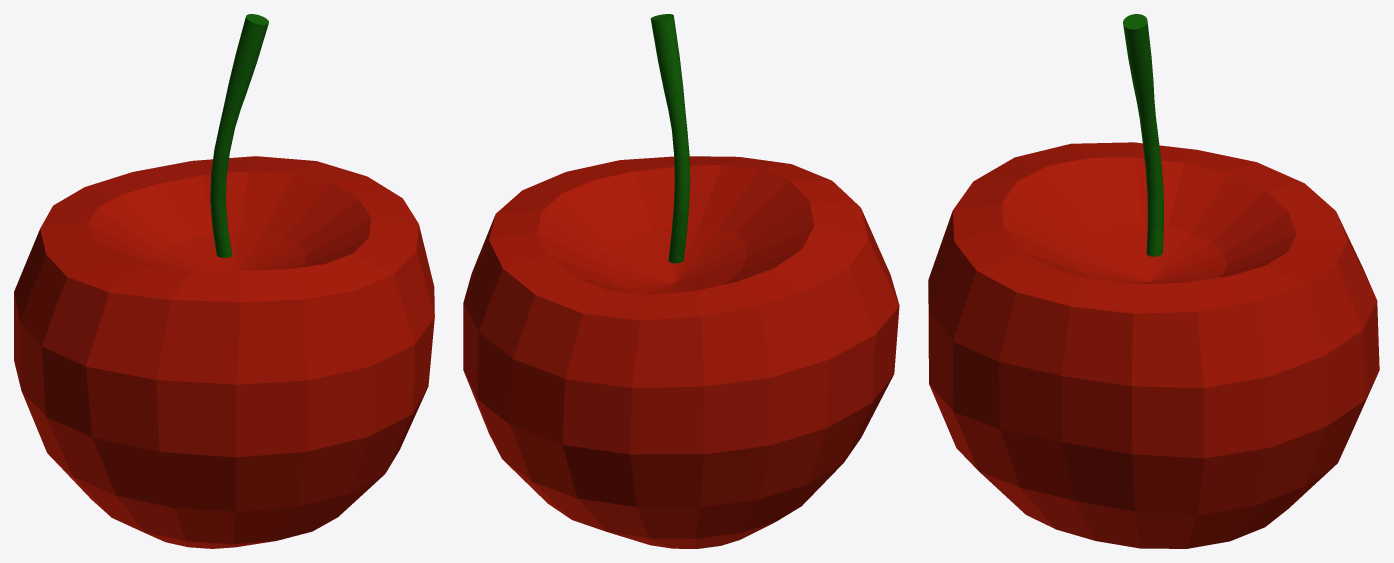
File: Manzana.fbx
3 views of the same model, side by side, from view 1: azimuth 30°, elevation 25°; view 2: azimuth 150°, elevation 25°; view 3: azimuth 270°, elevation 25° (orthographic). The views are drawn at different scales.
Visible parts, largest first — view 1: Sphere; view 2: Sphere; view 3: Sphere.
Boxes of the visible parts, <box> form: Sphere: <box>14,14,434,548</box>; Sphere: <box>463,14,899,548</box>; Sphere: <box>928,14,1379,548</box>.
Bounding box in the file's own units: 199 × 255 × 199.
